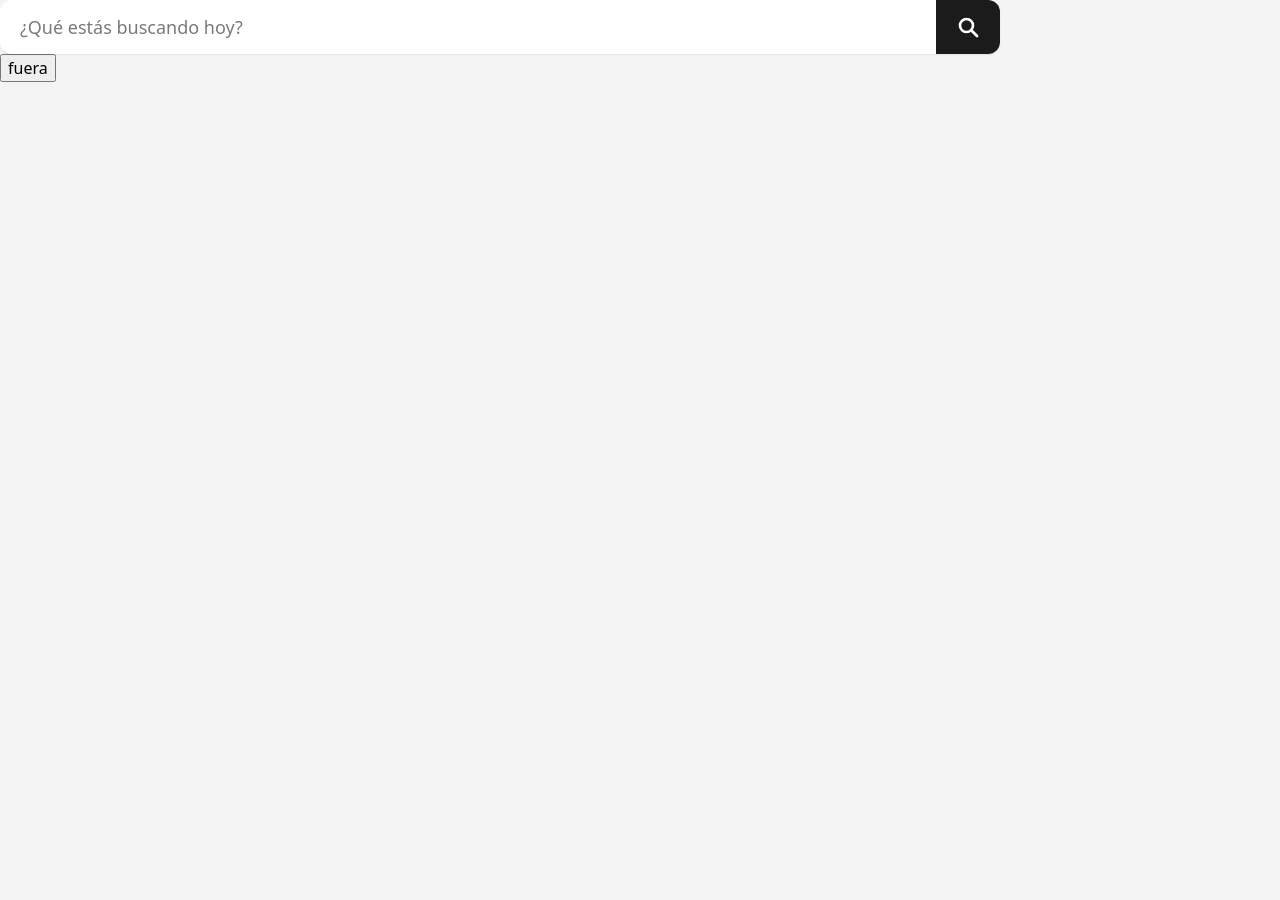
it: SearchBox › mientras carga, las búsquedas relacionadas muestran relleno
This screenshot has width=1280, height=900.
Later steps or results of the test are not shown.
Type "shirt" into the search field named "Buscar productos". click: (468, 27)
box: x1=0 y1=0 x2=936 y2=54
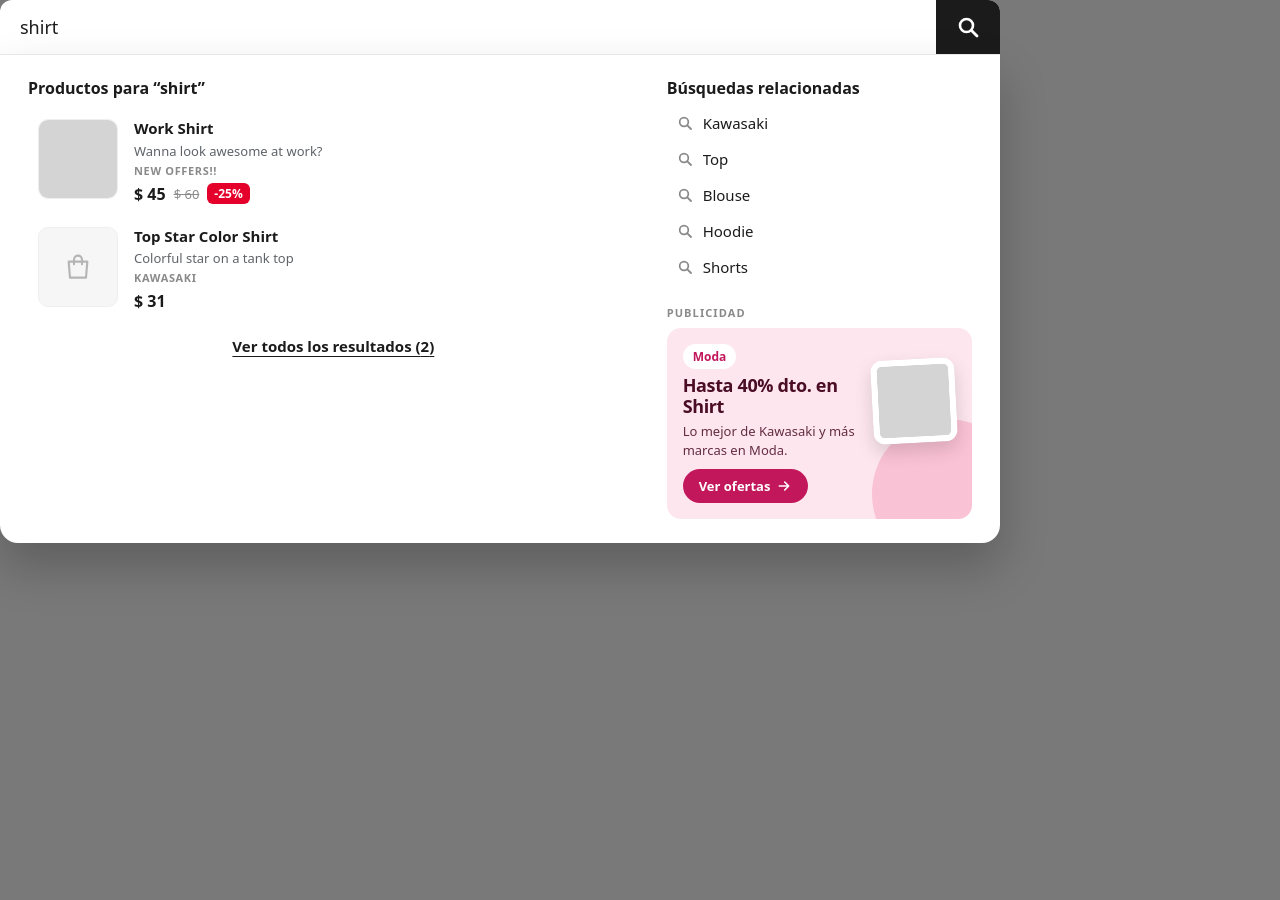
Check: the button "Kawasaki" is shown, box x1=667 y1=105 x2=972 y2=141
